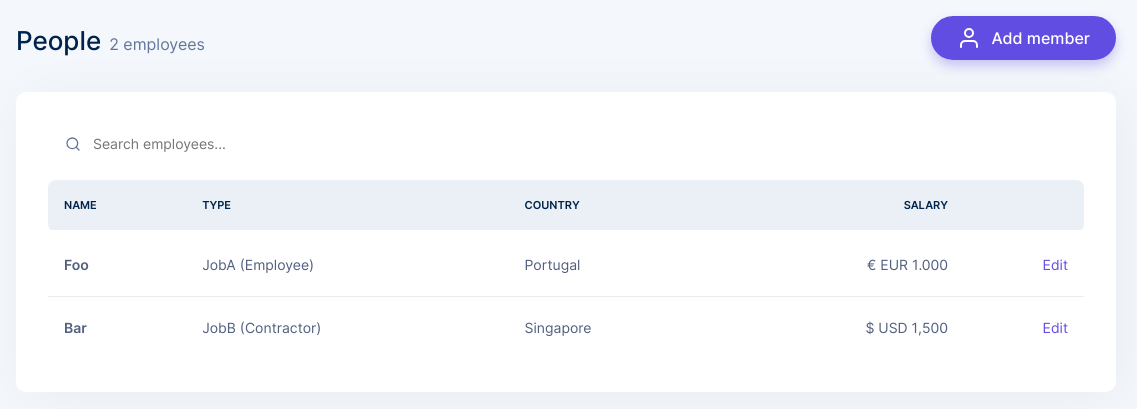
Test: People list page › search by substring works correctly
This screenshot has width=1137, height=409.
expect the text "2 employees" is shown: met, box [109,32,205,56]
In the field with placeholder "Search employees...": {"x": 193, "y": 144} [93,136,293,152], type "bar"
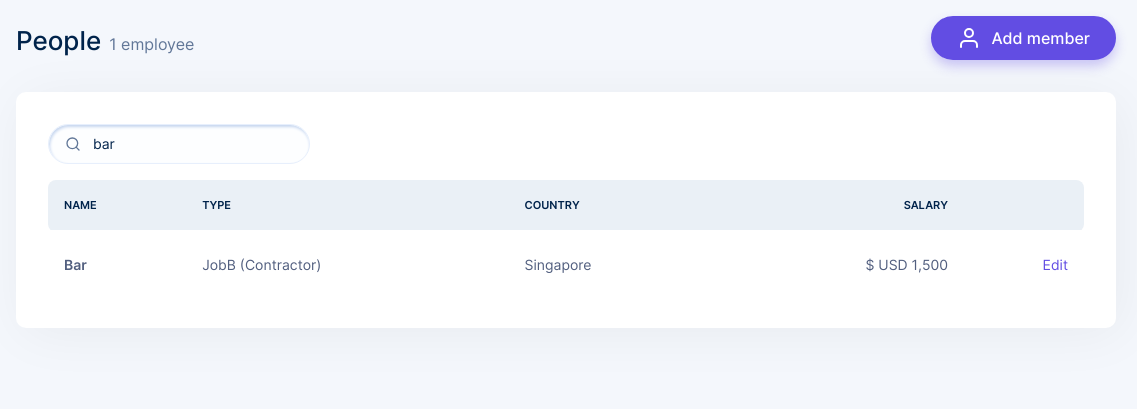
expect the text "Bar" is shown: met, box [64,256,87,273]
expect the text "1 employee" is shown: met, box [109,32,194,56]
